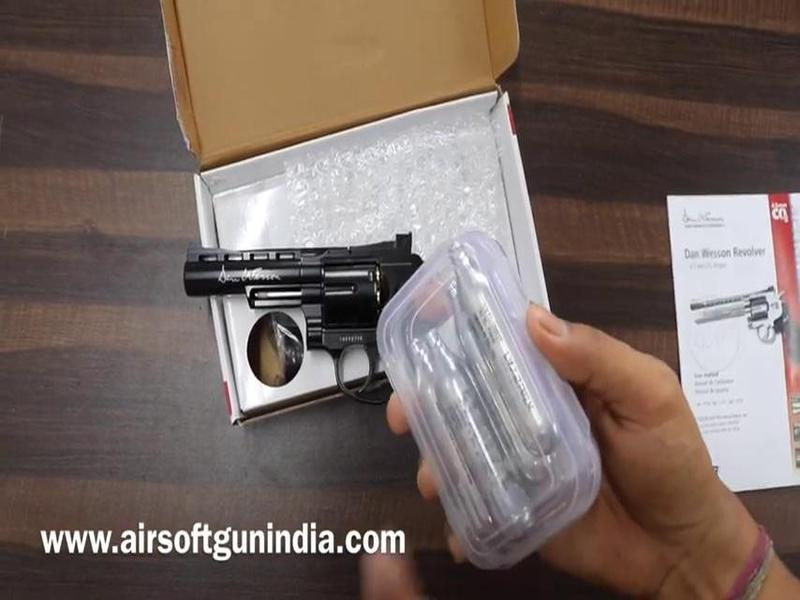Revolver: (164, 222, 447, 420)
